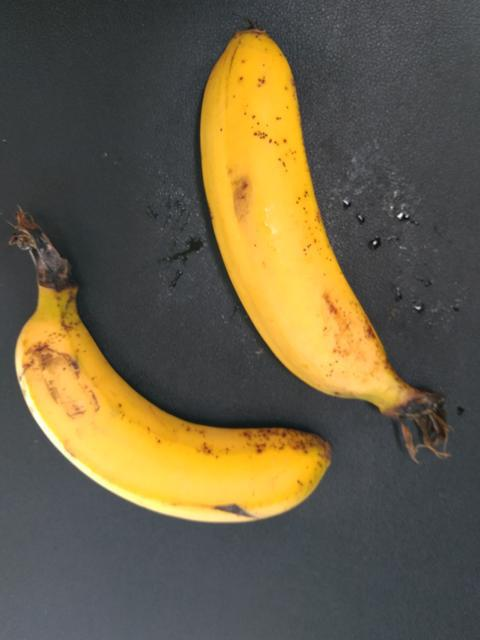ripe: (184, 7, 414, 415), (10, 299, 326, 544)
